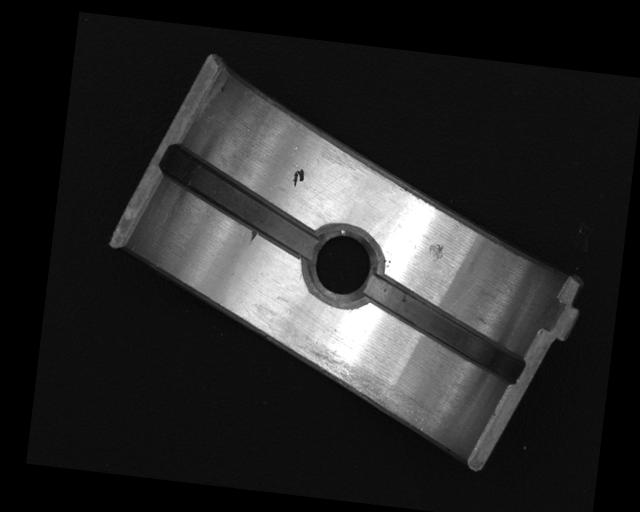blot: (291, 166, 306, 190)
bruise: (426, 241, 444, 263), (248, 229, 259, 243)
gap: (156, 145, 326, 259), (357, 278, 529, 384)
hole: (301, 221, 384, 311)
scratch: (276, 336, 451, 438)
